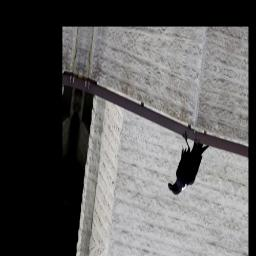Crow: (166, 121, 212, 206)
